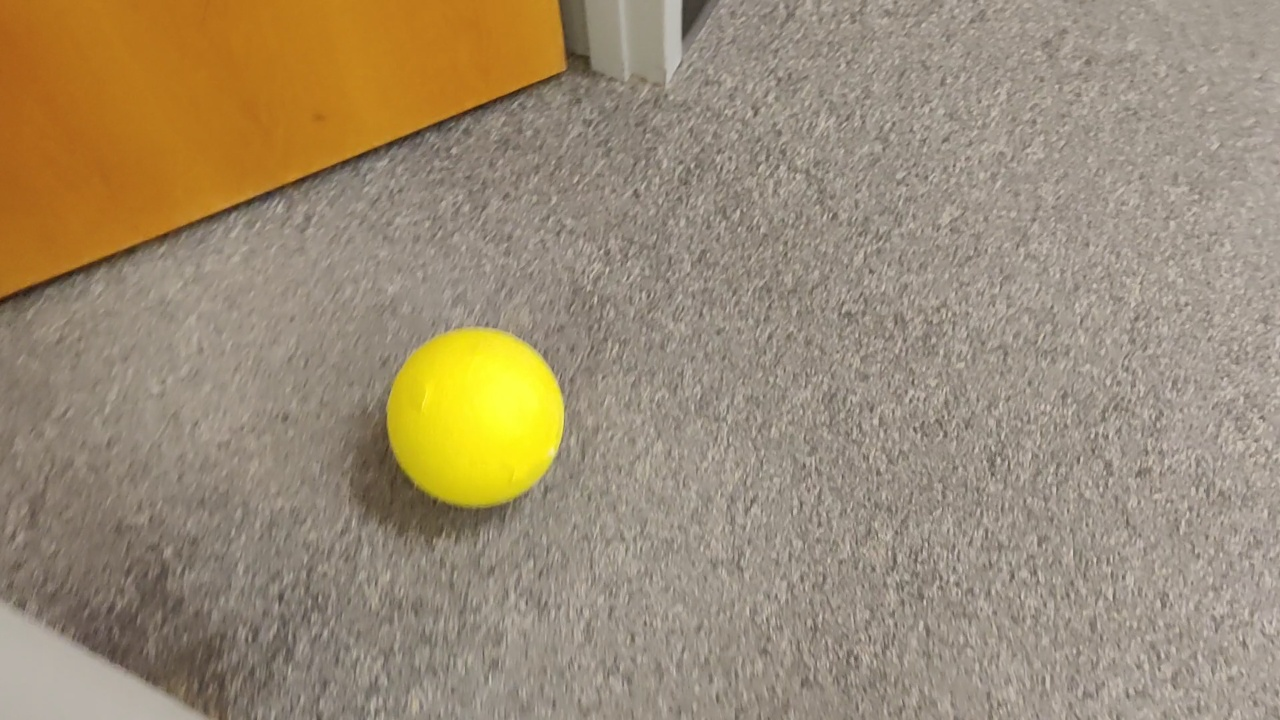Ball: (383, 323, 578, 509)
